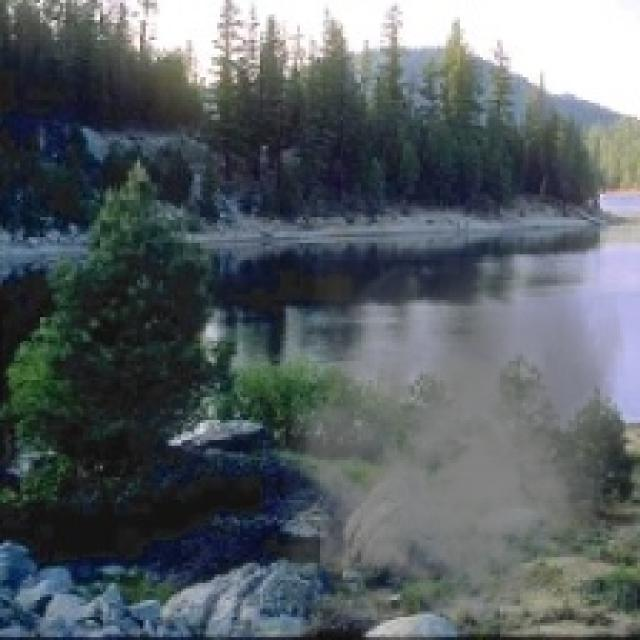Smoke: (283, 257, 626, 629)
